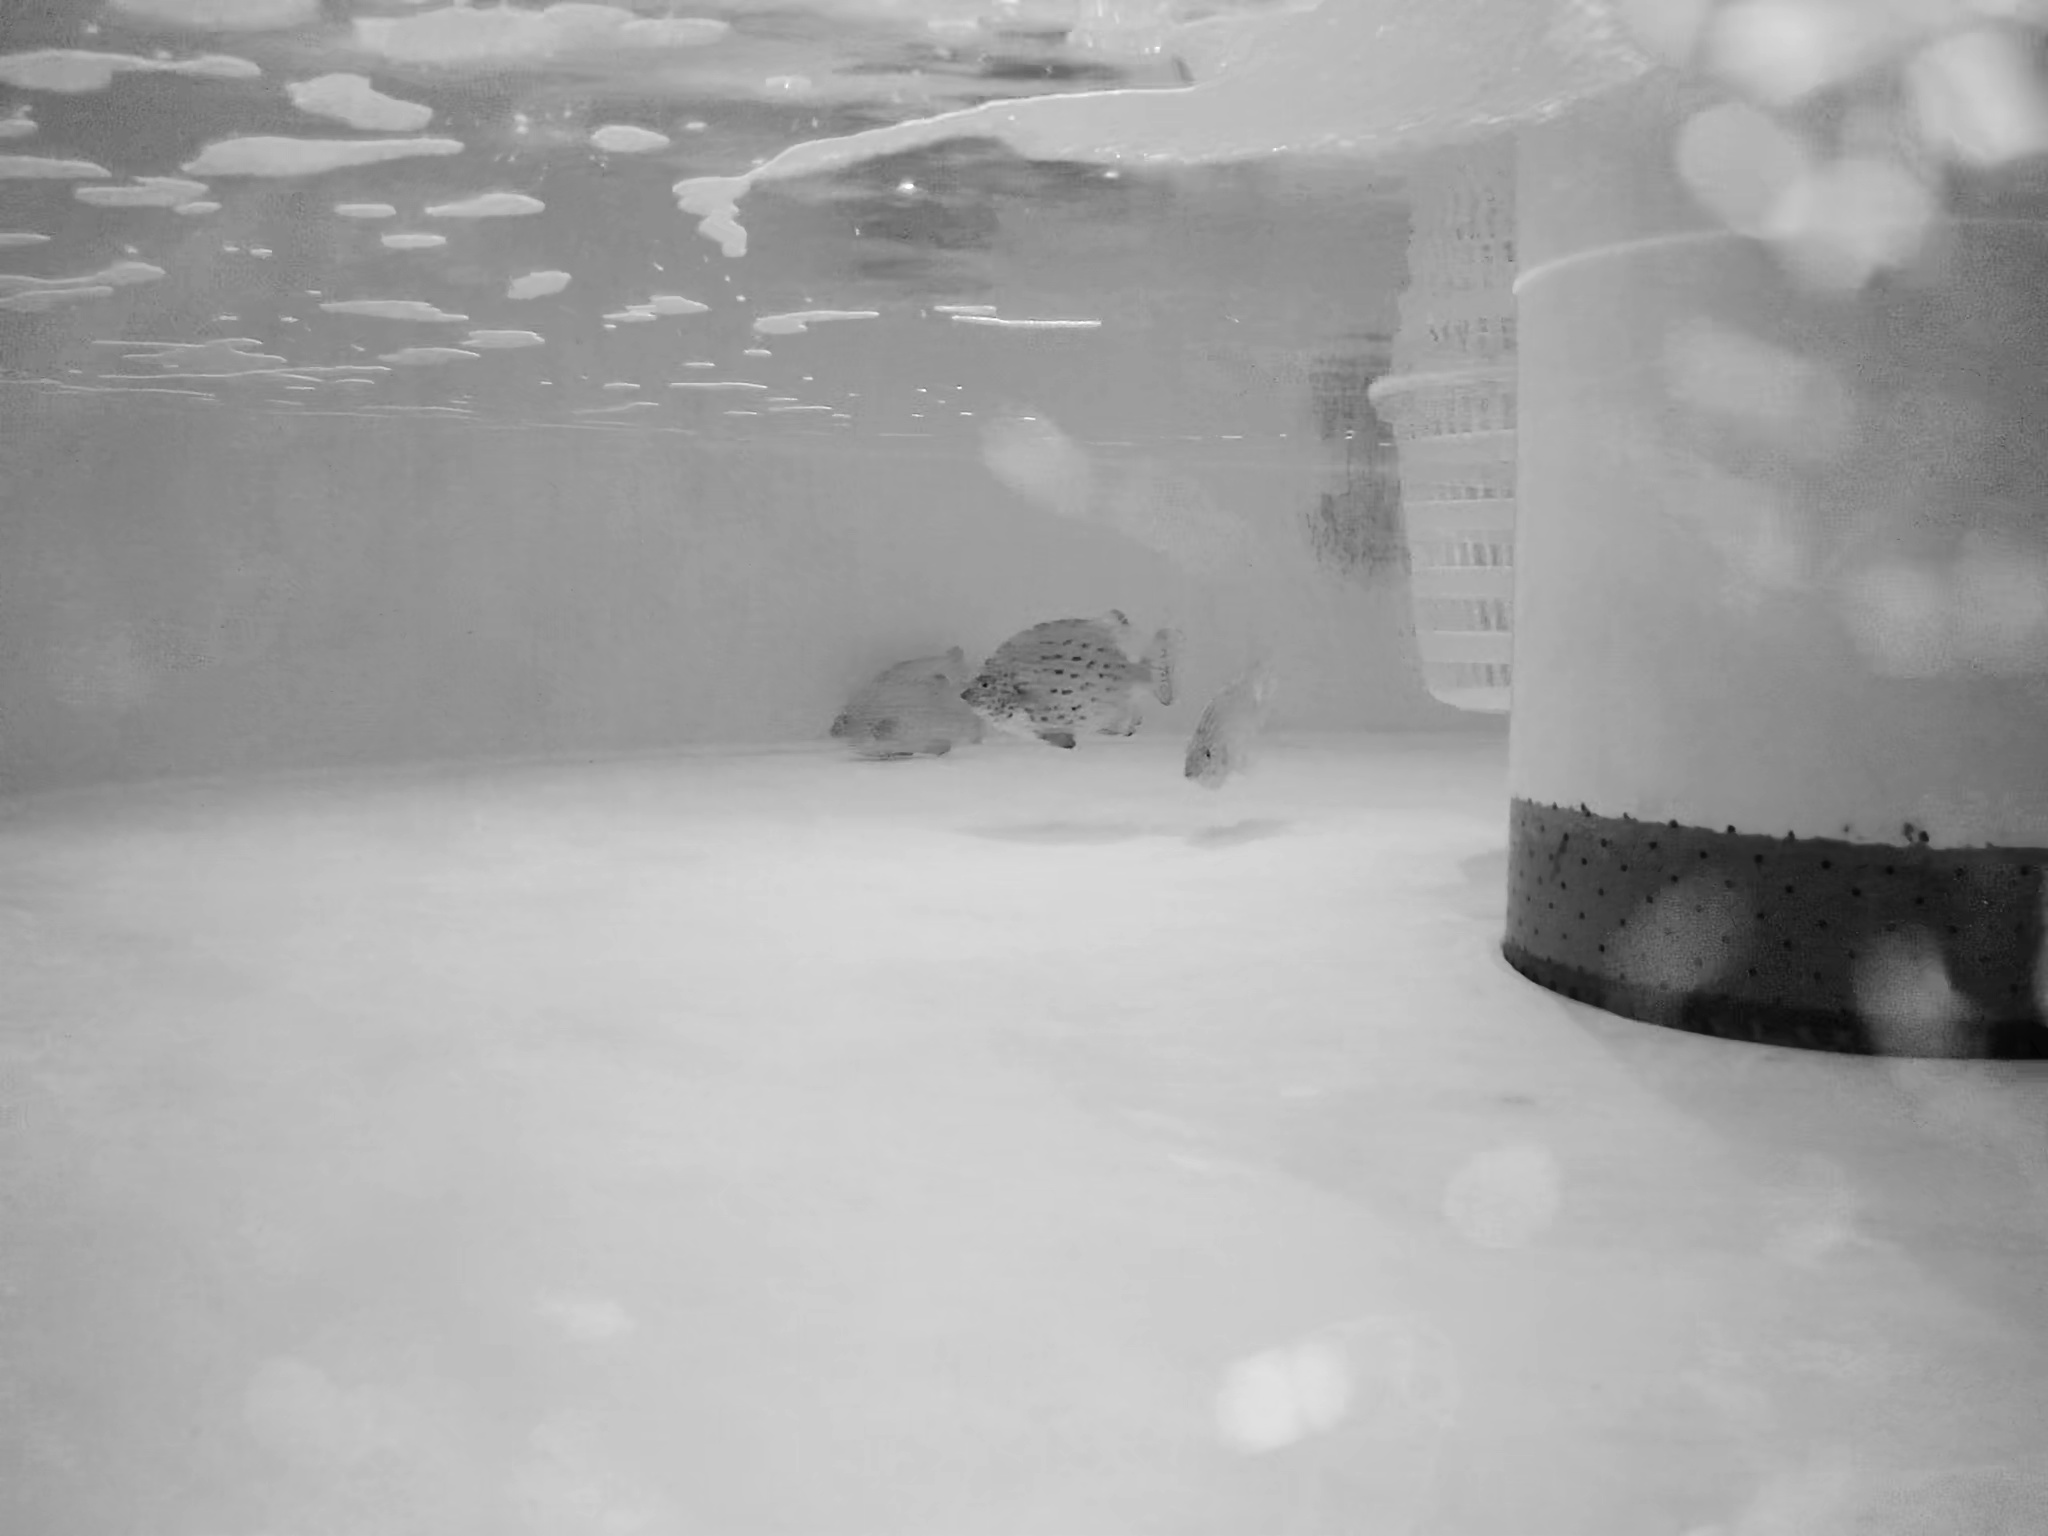fish: (971, 611, 1177, 752), (822, 647, 1003, 758), (1180, 657, 1276, 794)
